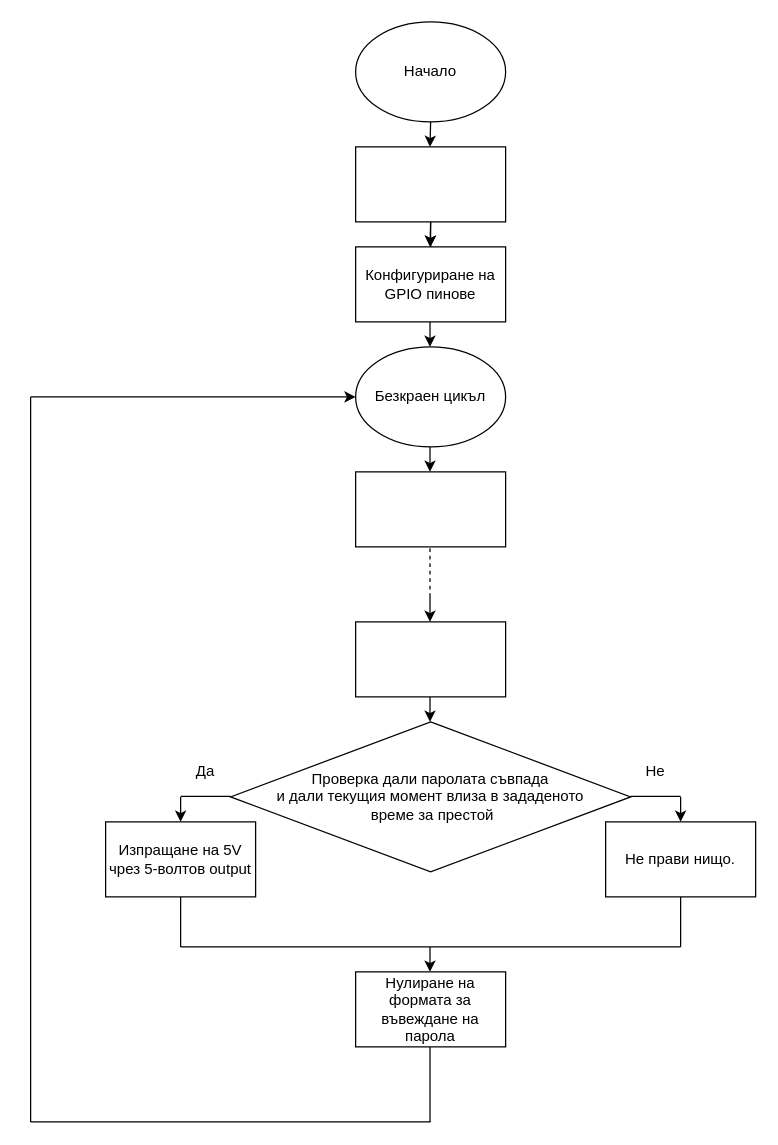
This 778x1145 diagram has some shape labels left out. The centre of each missing label's shape, as x and y in pixels:
"Добавяне на необходими библиотеки" belongs at [430,184].
"Изчакване на потребителя на въведе парола" belongs at [430,659].
"Показване на формата за въвеждане на парола" belongs at [430,509].
